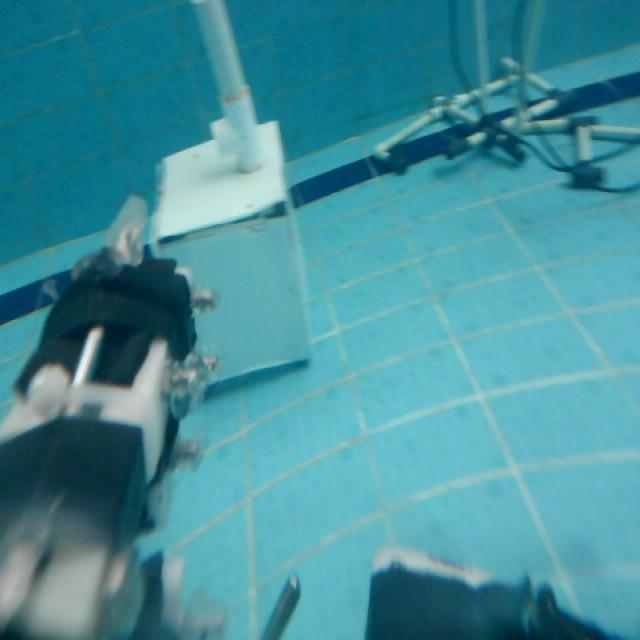Cube: (149, 115, 313, 389)
